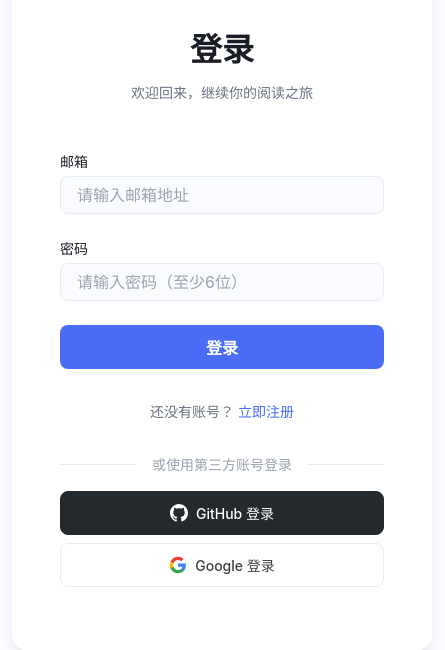
LoginPage › toggles back to login form
Click the button with class "toggle-btn" at (266, 410), box x1=238 y1=400 x2=294 y2=420
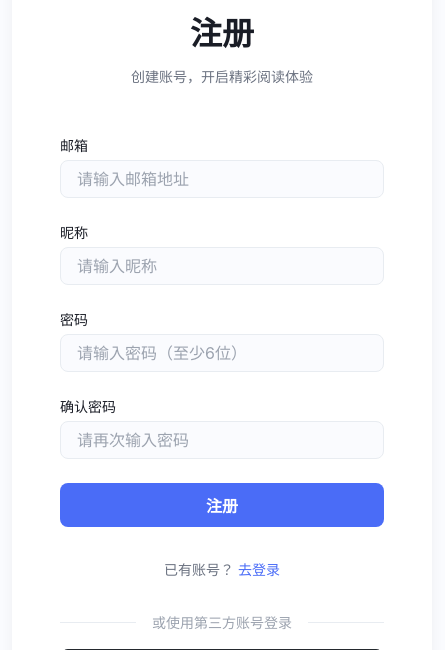
Click the button with class "toggle-btn" at (259, 569), box x1=238 y1=559 x2=280 y2=579
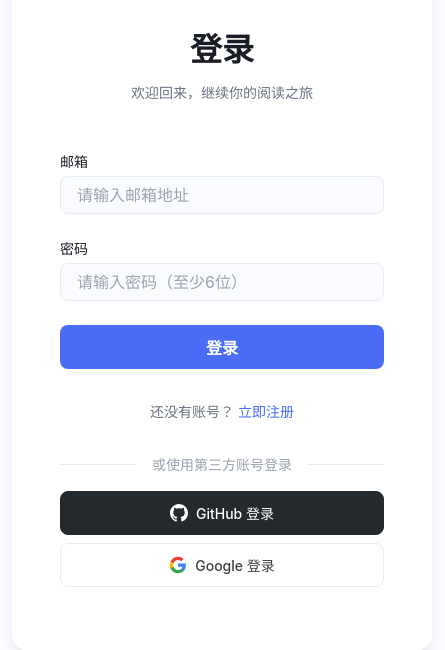
Check: the heading with class "login-title" reads "登录", box x1=190 y1=30 x2=254 y2=68
